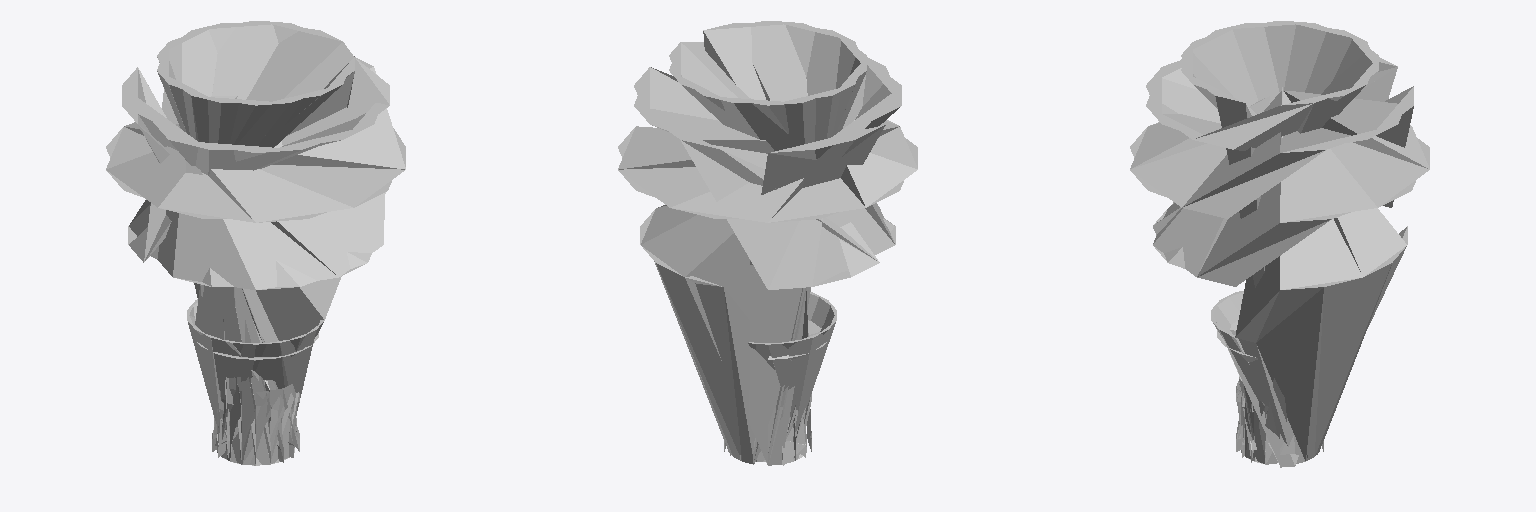
File: Light bulb.obj
The picture shows the model from 3 angles: view 1: azimuth 30°, elevation 25°; view 2: azimuth 150°, elevation 25°; view 3: azimuth 270°, elevation 25°; orthographic projection.
Visible parts, largest first — view 1: Cylinder002; view 2: Cylinder002; view 3: Cylinder002.
Boxes of the visible parts, x1=… form: Cylinder002: x1=106, y1=21, x2=405, y2=465; Cylinder002: x1=618, y1=21, x2=917, y2=465; Cylinder002: x1=1130, y1=21, x2=1429, y2=467.
Bounding box in the file's own units: 299451 × 417758 × 294902.